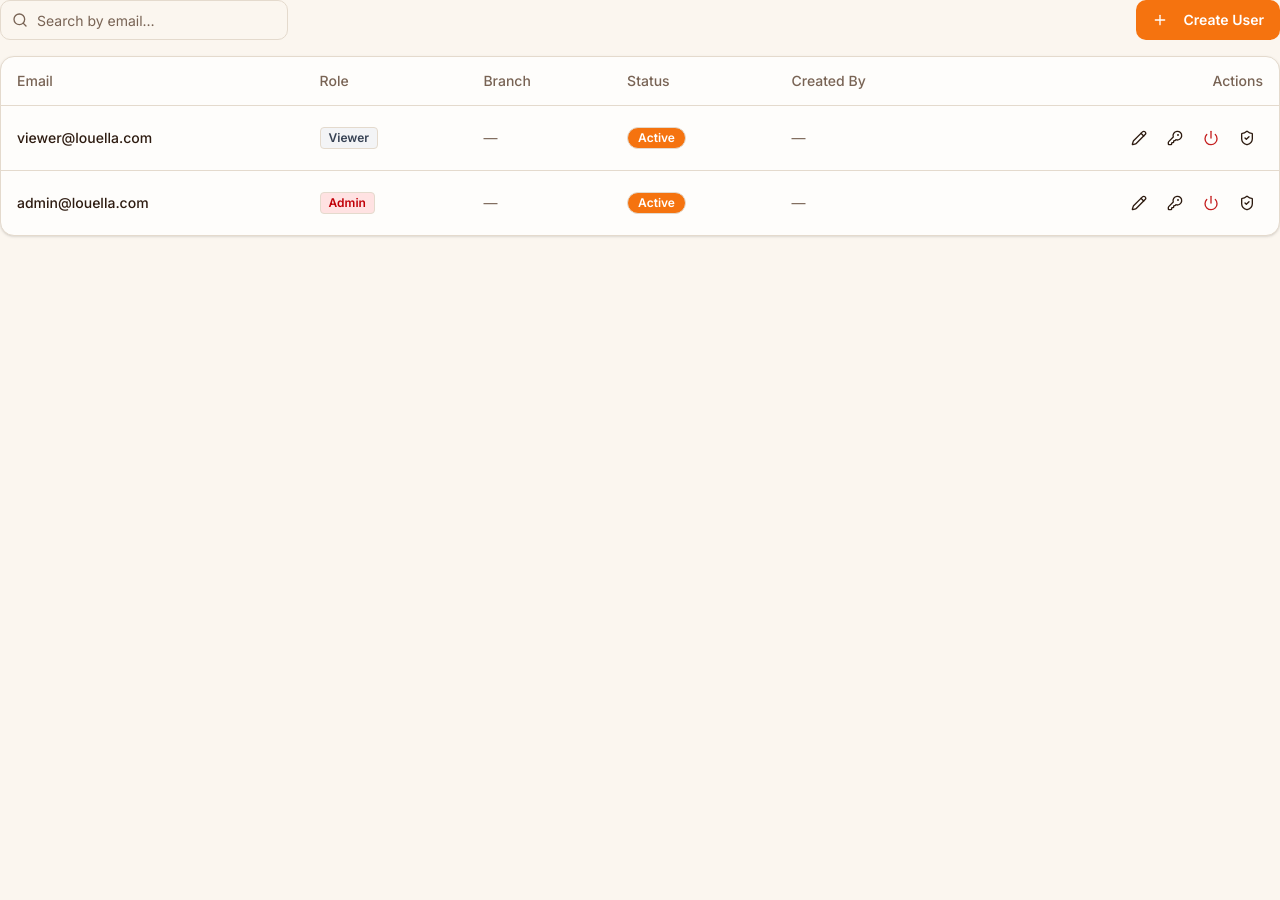
Test: Users screen — access-aware creation › clears the override when a box is returned to the role default
Click the button "Create User" at (1208, 20), box [1136,0,1279,40]
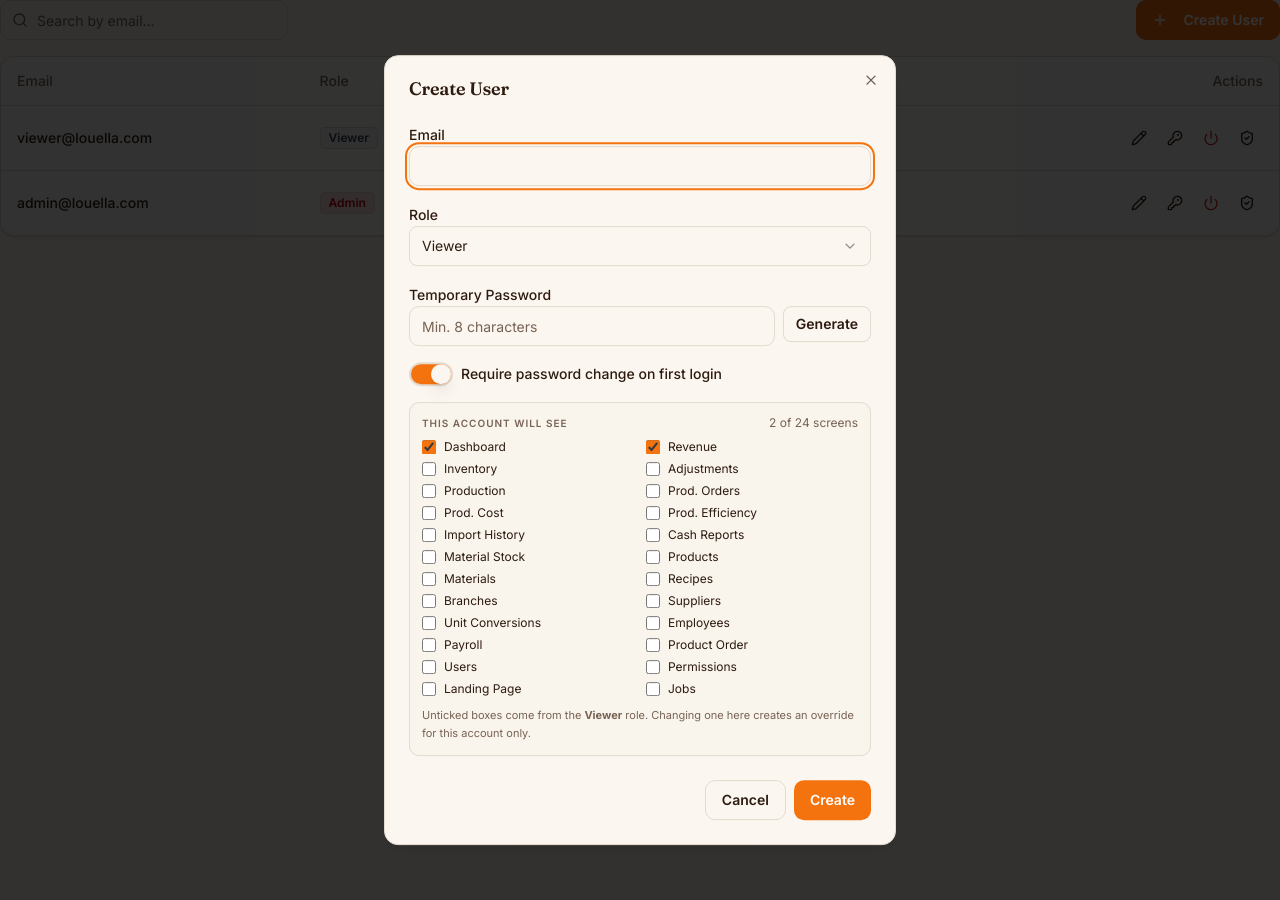
Now the text "This account will see" is shown, box [422,416,568,431]
Click the checkbox labelled "Products" at (653, 557), box [646,550,660,564]
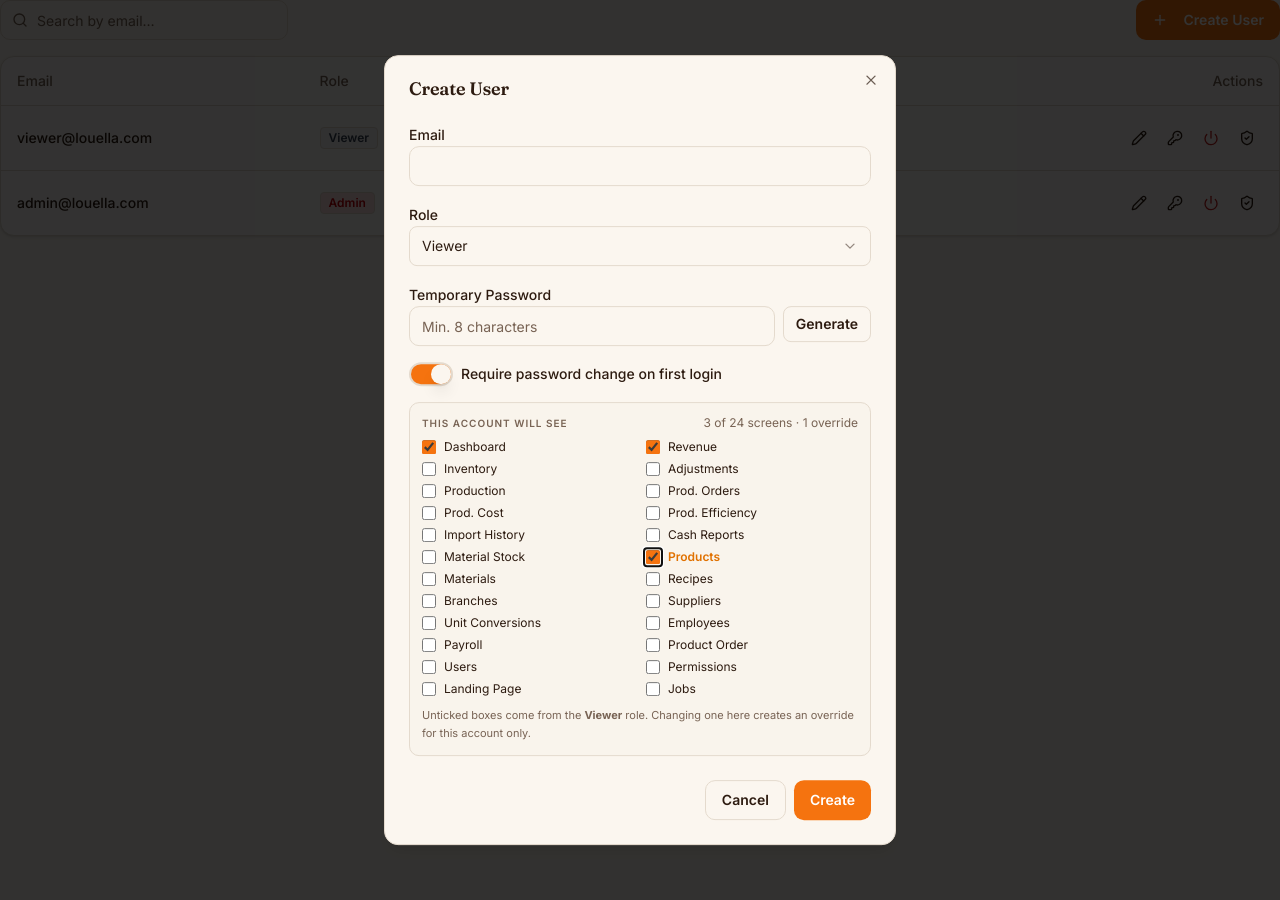
Now the text "3 of 24 screens · 1 override" is shown, box [704,415,858,431]
Click the checkbox labelled "Products" at (653, 557), box [646,550,660,564]
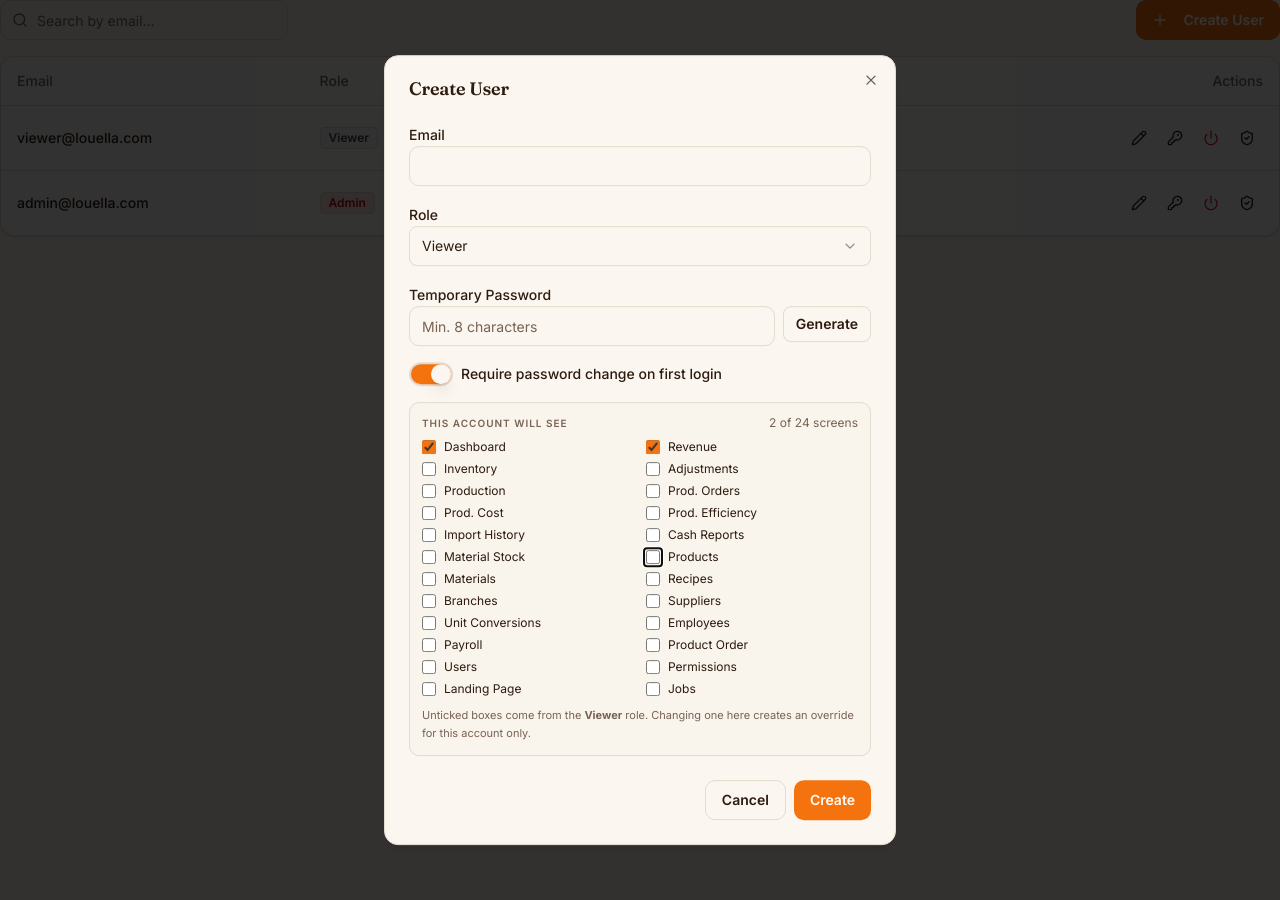
Now the text "3 of 24 screens · 1 override" is gone
